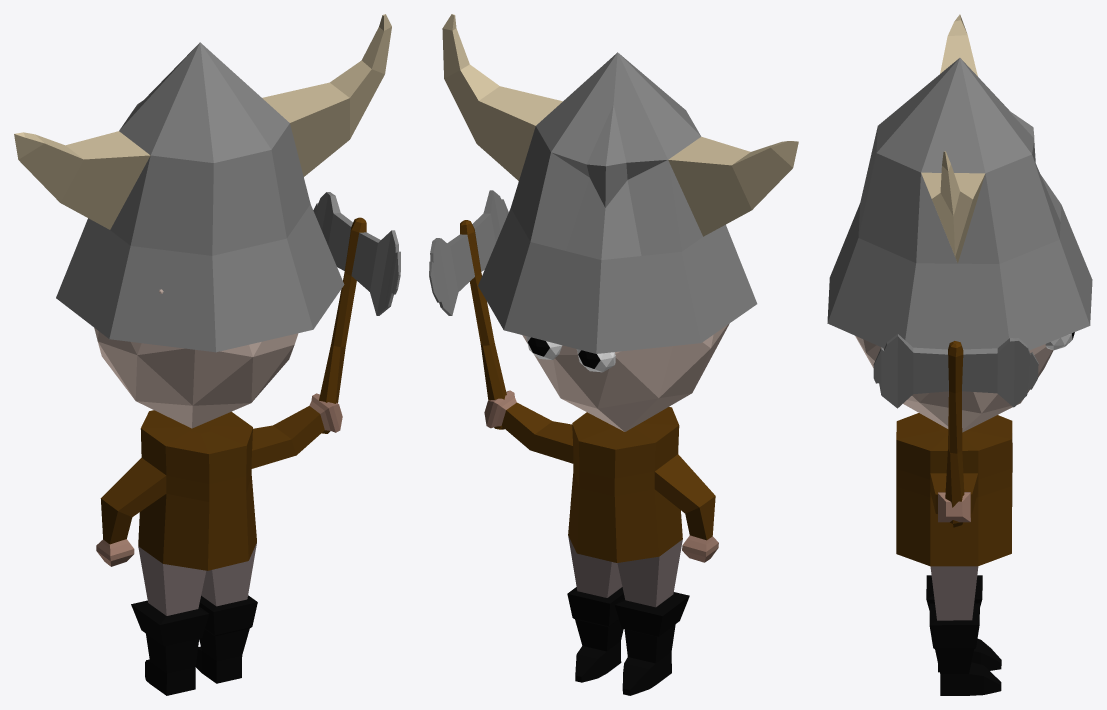
File: viking.fbx
The picture shows the model from 3 angles, left to right: view 1: azimuth 30°, elevation 25°; view 2: azimuth 150°, elevation 25°; view 3: azimuth 270°, elevation 25°; orthographic projection. The views are drawn at different scales.
Visible parts, largest first — view 1: Cylinder, Cylinder.002; view 2: Cylinder, Cylinder.002; view 3: Cylinder, Cylinder.002.
Boxes of the visible parts, x1,y1,x2,y2 form: Cylinder: (14, 14, 391, 695); Cylinder.002: (251, 192, 400, 468); Cylinder: (442, 14, 798, 695); Cylinder.002: (429, 190, 573, 463); Cylinder: (827, 14, 1092, 695); Cylinder.002: (873, 334, 1038, 527).
Size of the model in its own units: 2.21 by 3.62 by 1.39.
